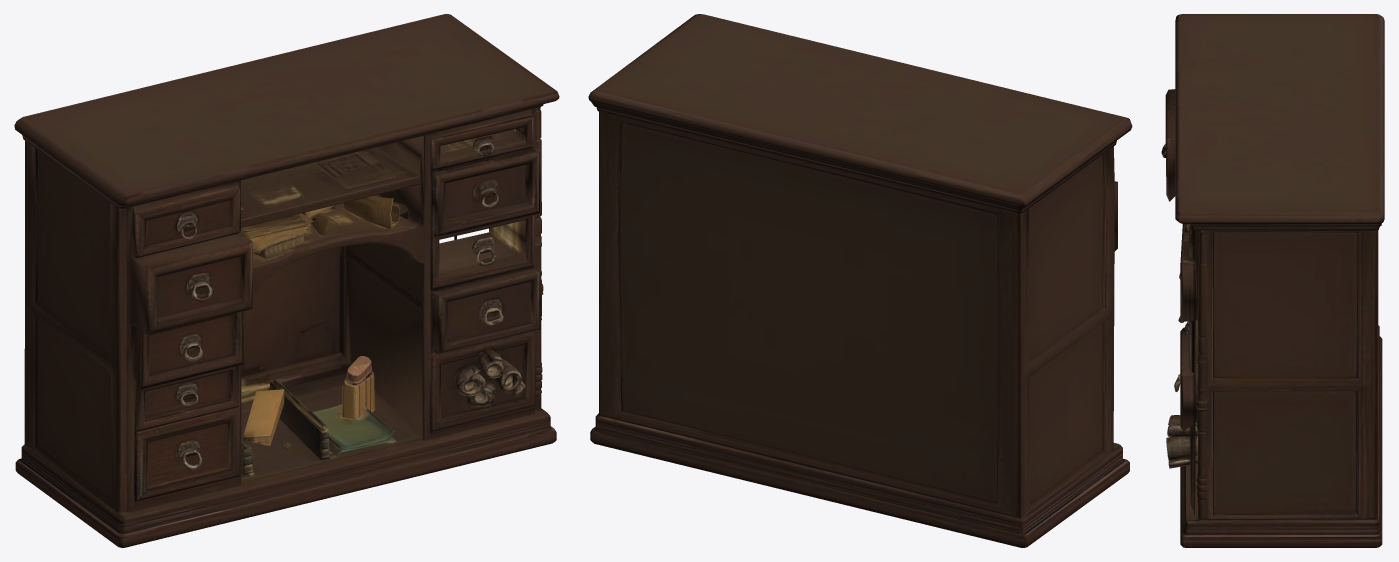
File: lower_cabinet.glb
3 renders of one model, left to right at view 1: azimuth 30°, elevation 25°; view 2: azimuth 150°, elevation 25°; view 3: azimuth 270°, elevation 25°, orthographic. The views are drawn at different scales.
Visible parts, largest first — view 1: f746fe14_302d_42f3_880c_09f021ca85db; view 2: f746fe14_302d_42f3_880c_09f021ca85db; view 3: f746fe14_302d_42f3_880c_09f021ca85db.
Part boxes in pixels (x1=…): f746fe14_302d_42f3_880c_09f021ca85db: x1=14, y1=14, x2=559, y2=547; f746fe14_302d_42f3_880c_09f021ca85db: x1=588, y1=14, x2=1132, y2=547; f746fe14_302d_42f3_880c_09f021ca85db: x1=1161, y1=14, x2=1384, y2=547.
Size of the model in its own units: 0.9995 by 0.7681 by 0.4643.
1 material, 1 textured.
